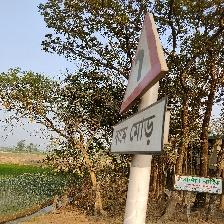Left-Turn: (109, 11, 170, 156)
